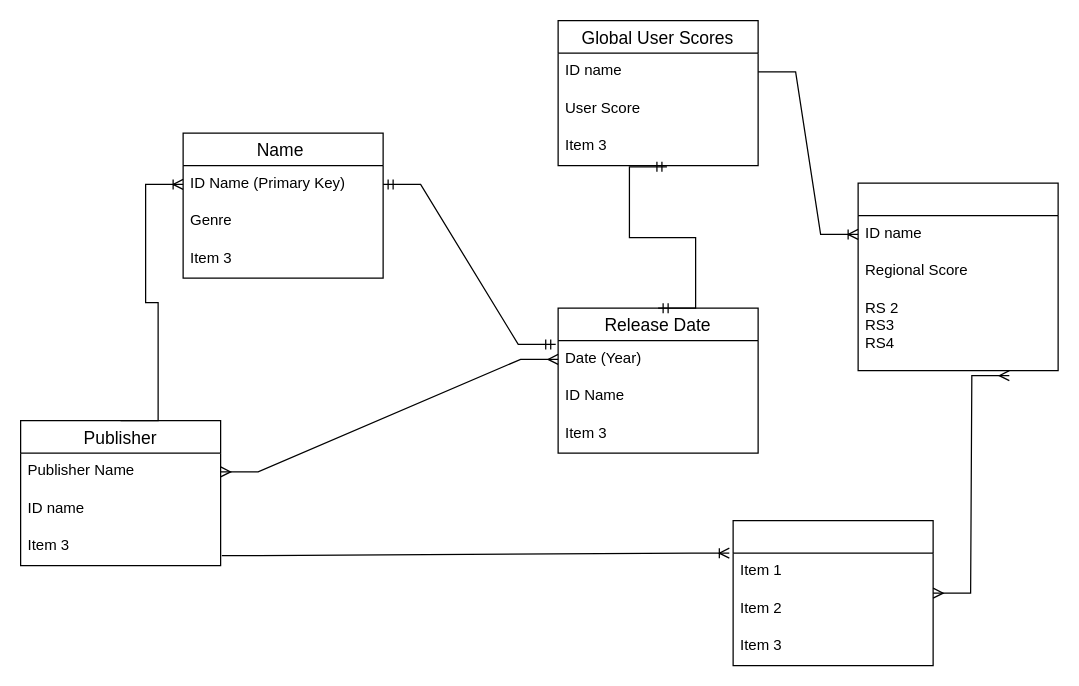
Image size: 1079x686. Some labels were removed from this diagram. The shapes that lost their labels are listed below. From the top down, each one's box as (x1, y1, x2, y2) in pixels, then its label:
(857, 182, 1058, 371): Regional User Score
(732, 519, 933, 666): Publisher Avg Score
